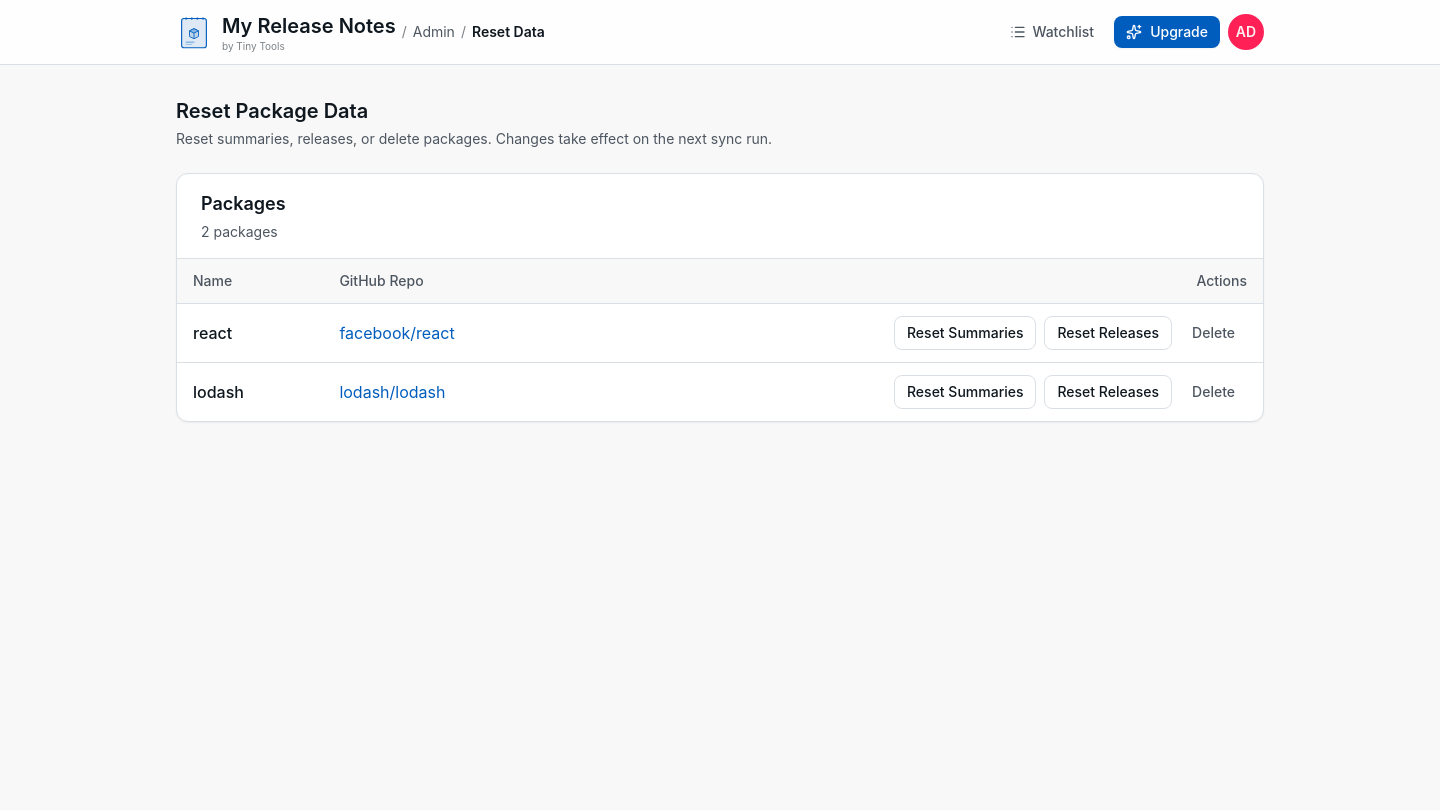
Test: AdminReset › when user is admin › shows confirmation modal when Reset Summaries is clicked
Check: the text "react" is shown, box [193,323,232,343]
Click the button "Reset Summaries" in the row of "facebook".
click(965, 333)  # box [894,316,1036,350]
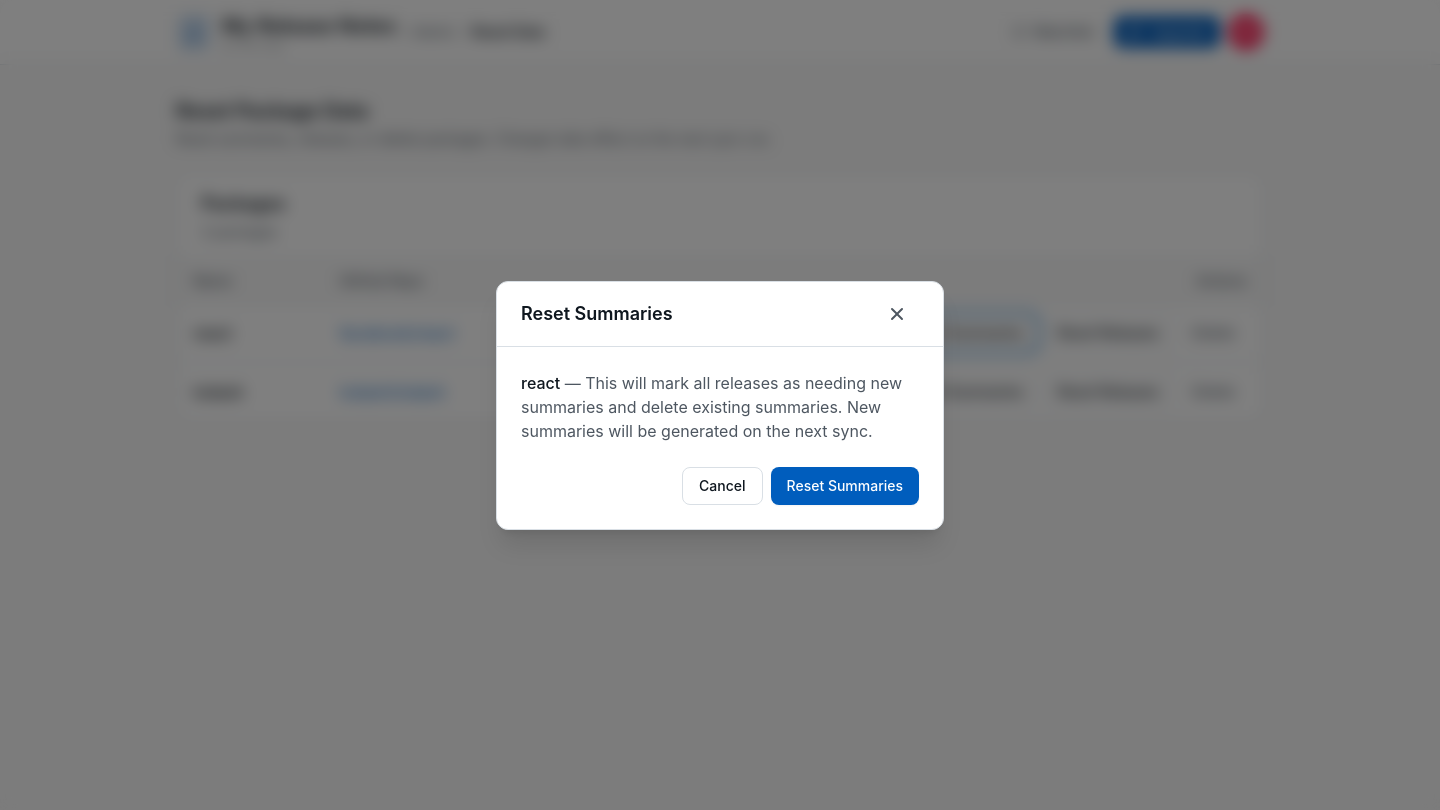
Check: the text "mark all releases as needing new summaries" is shown, box [521,372,902,440]
